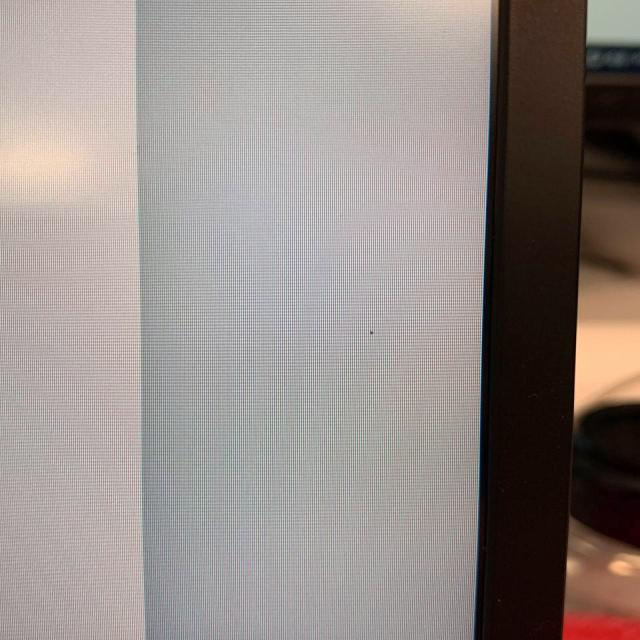Dead pixel: (369, 331, 373, 335)
